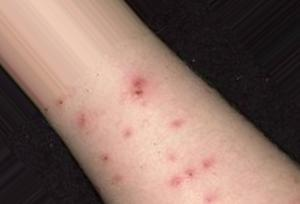Fleas: (127, 75, 146, 97), (167, 170, 185, 189), (169, 118, 186, 129), (199, 158, 212, 170), (110, 172, 123, 184), (76, 115, 89, 126), (122, 129, 133, 140), (186, 170, 194, 179), (167, 153, 176, 161), (101, 155, 110, 163), (57, 99, 65, 105)
